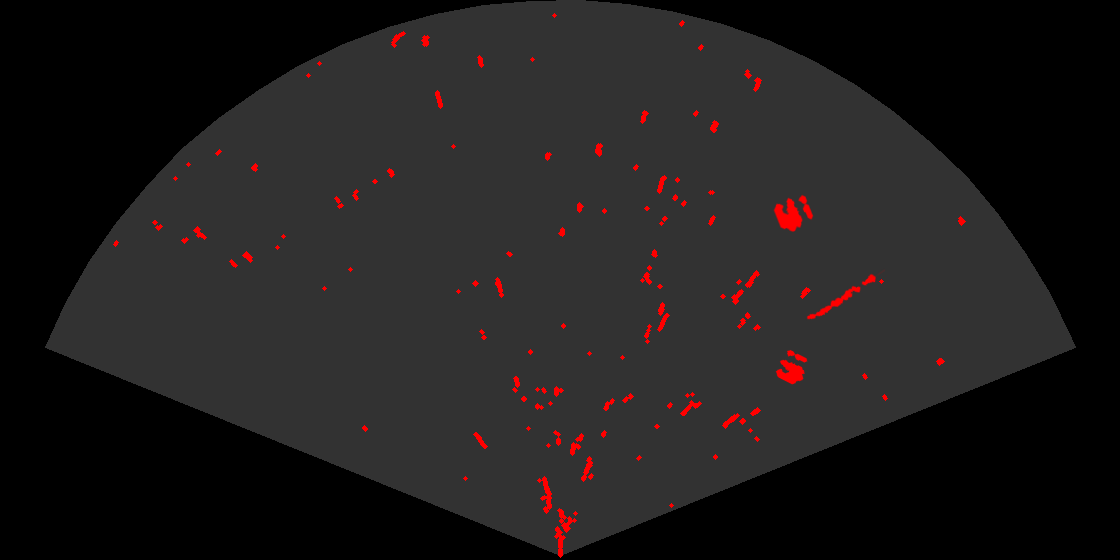ball: (772, 193, 815, 233), (774, 348, 809, 386)
chain: (805, 268, 885, 321)
